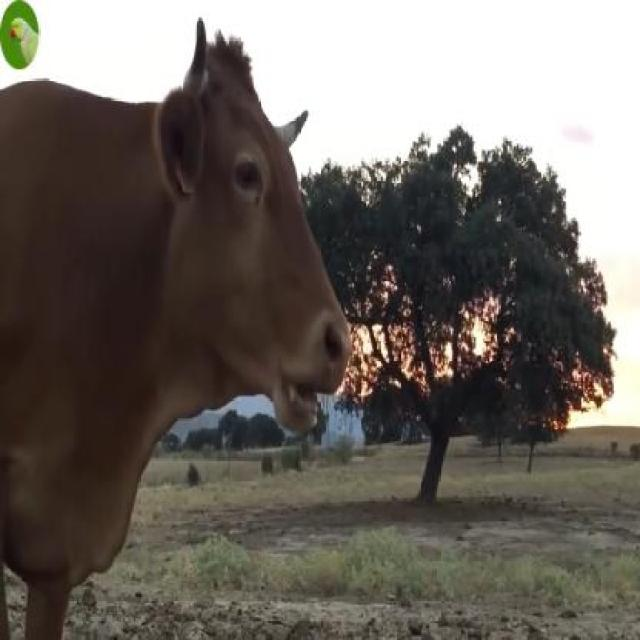Cow: (1, 17, 352, 638)
